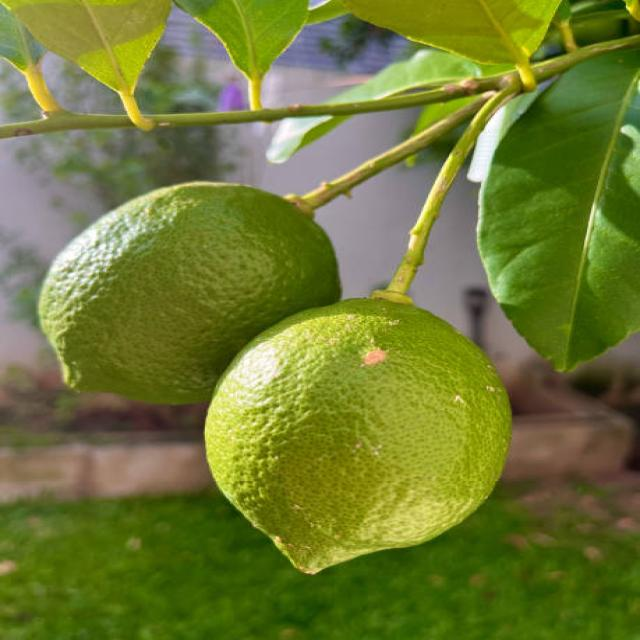Unripe: (204, 296, 513, 574), (39, 180, 342, 406)
